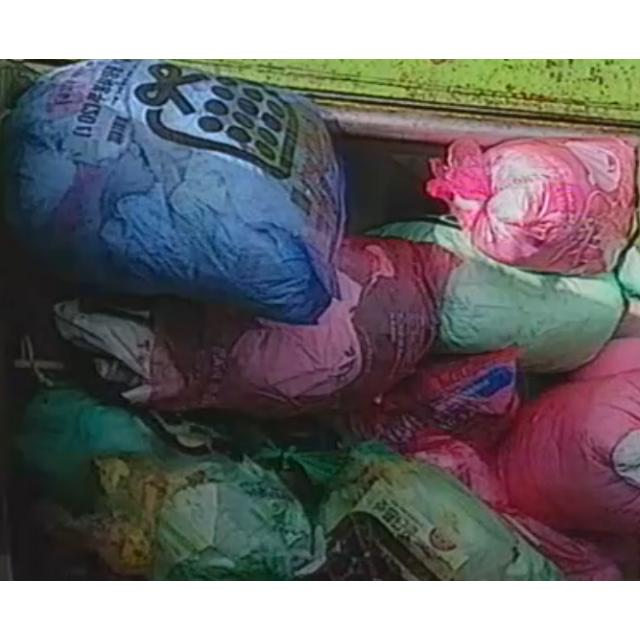general_trashbag: (6, 62, 345, 323), (25, 390, 316, 580), (260, 444, 562, 581), (368, 218, 625, 371)
other_trashbag: (55, 238, 459, 416), (498, 339, 640, 540), (428, 139, 636, 275)
